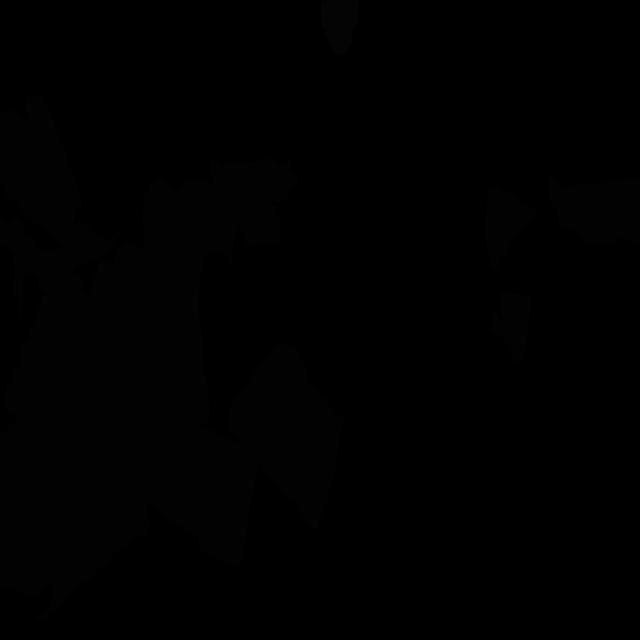cardboard: (4, 290, 258, 568), (88, 177, 210, 462), (0, 417, 150, 620), (0, 94, 122, 318), (228, 343, 344, 531), (175, 157, 299, 273), (548, 175, 640, 246), (484, 185, 538, 270), (491, 292, 531, 364)
